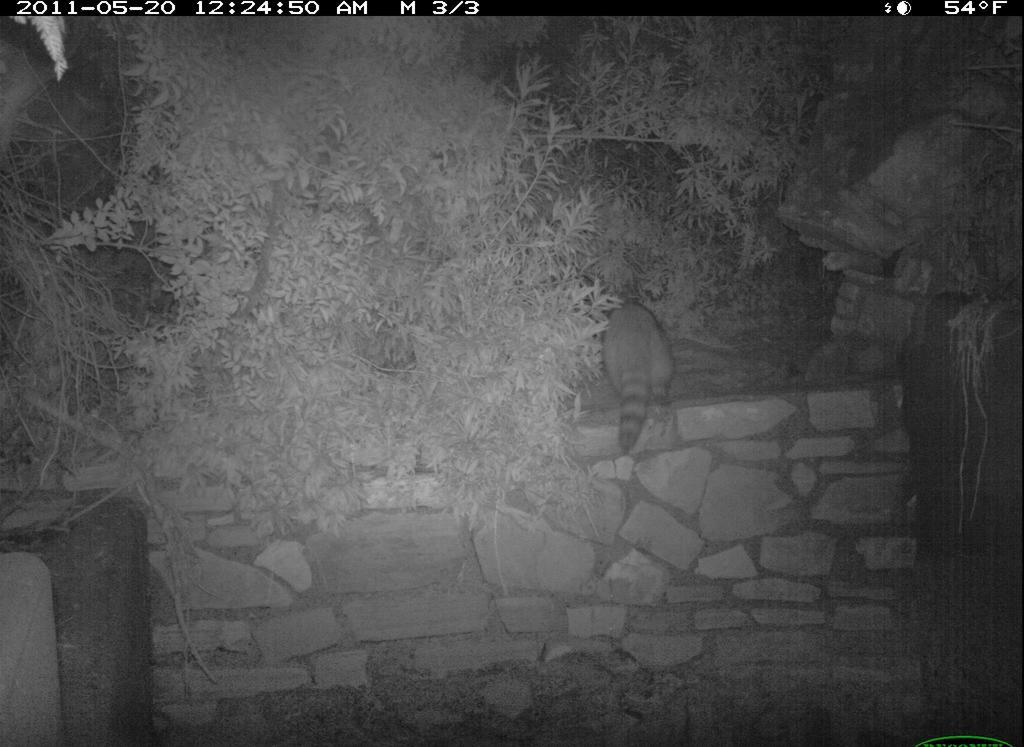raccoon: (583, 273, 697, 475)
